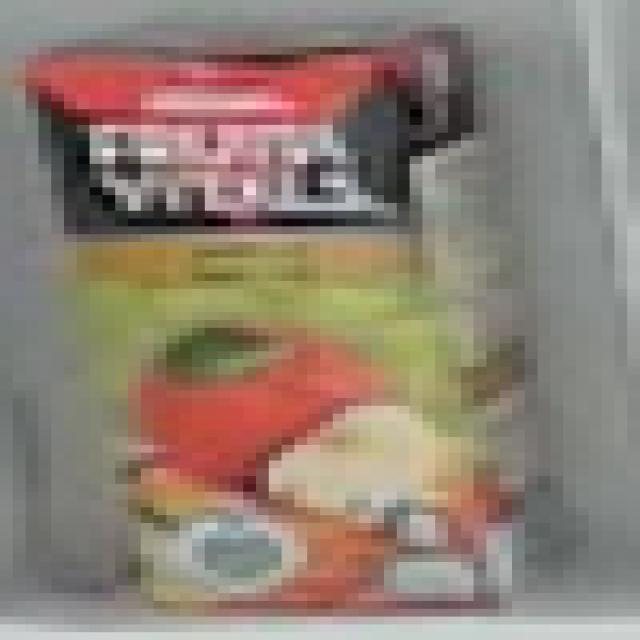Plastic: (2, 0, 634, 640)
